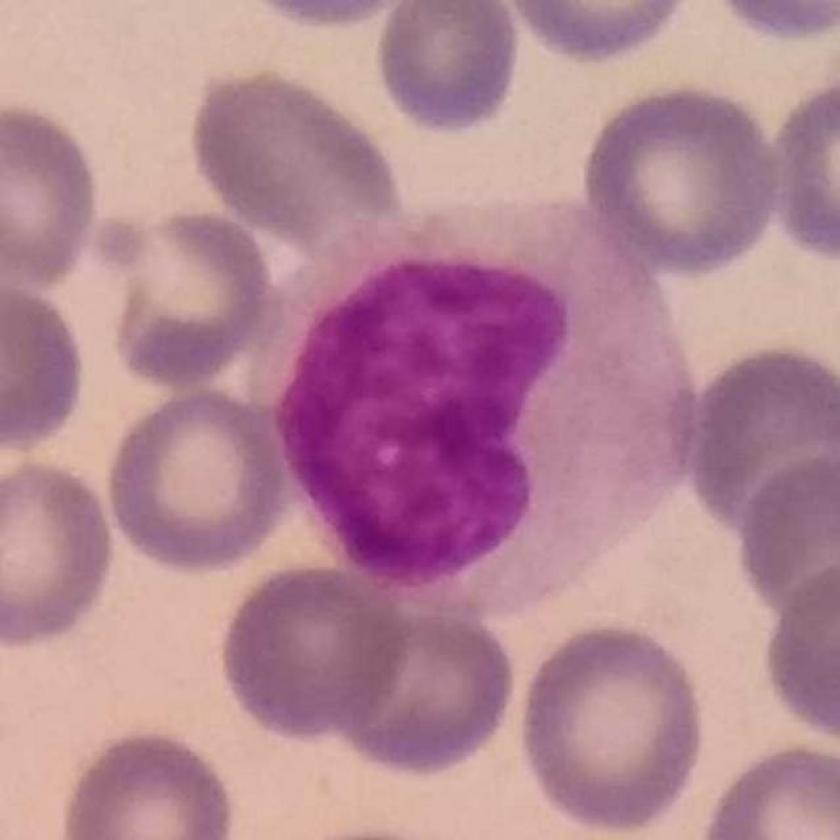monocyte: (242, 183, 709, 626)
